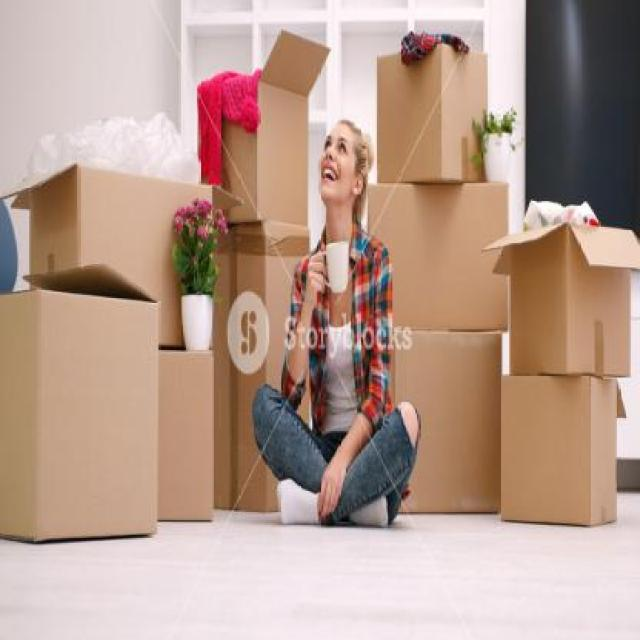box: (1, 265, 161, 556), (16, 162, 222, 353), (212, 228, 322, 524), (477, 202, 638, 389), (190, 25, 328, 223), (384, 313, 505, 536), (490, 357, 622, 552), (365, 180, 512, 338), (374, 34, 492, 194), (152, 345, 220, 543)
